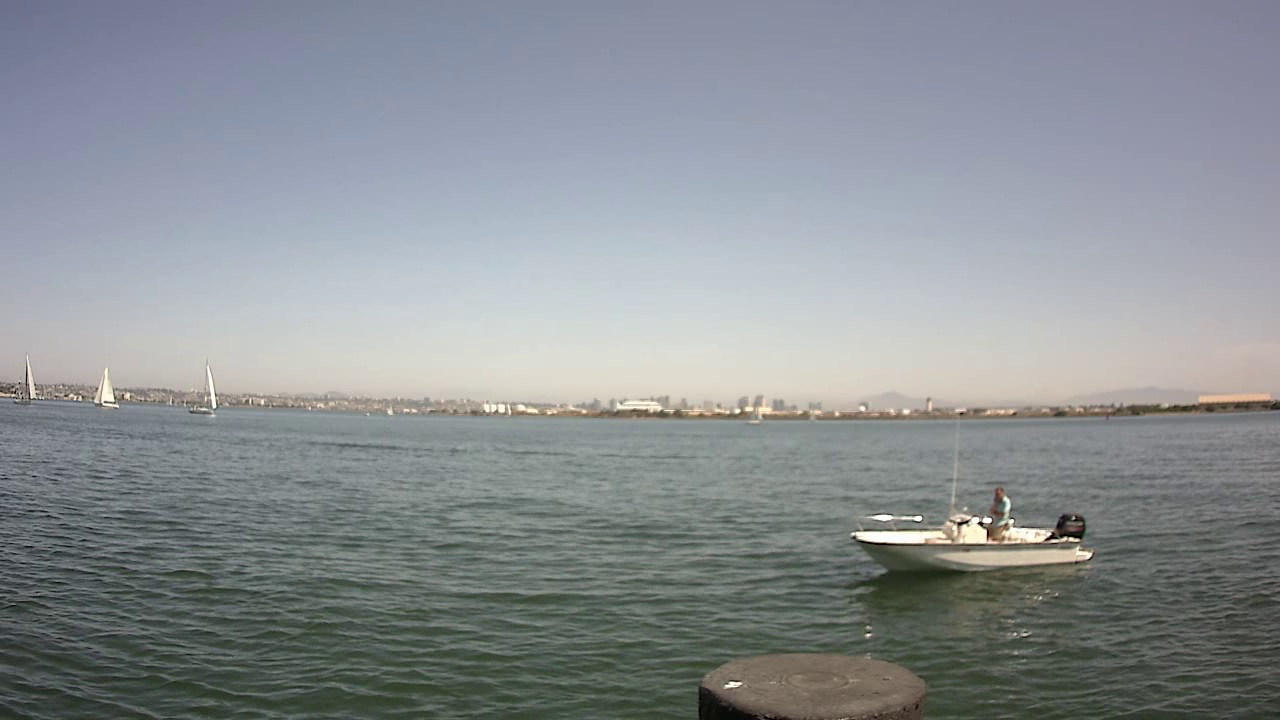target: (849, 473, 1100, 576)
